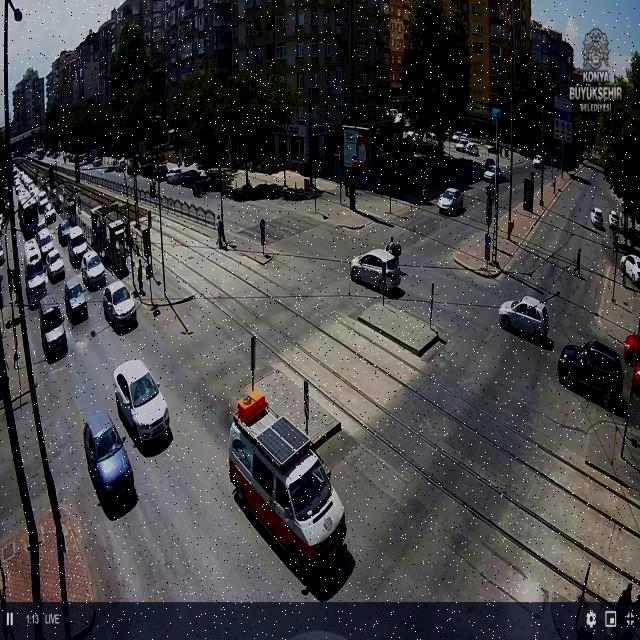Car: (80, 409, 136, 509), (114, 359, 170, 446), (558, 339, 625, 406), (499, 296, 551, 344), (349, 248, 402, 294), (102, 280, 138, 333), (39, 301, 68, 362), (63, 280, 88, 322), (80, 250, 106, 290), (66, 228, 90, 264), (26, 268, 47, 306), (46, 248, 66, 282), (438, 188, 464, 214), (619, 253, 640, 282), (24, 238, 41, 268), (36, 227, 54, 253), (36, 192, 52, 218), (484, 165, 506, 182), (58, 218, 72, 244), (166, 170, 187, 185), (590, 207, 604, 227), (43, 203, 56, 224), (608, 210, 621, 228), (402, 130, 417, 143), (532, 155, 544, 169), (459, 134, 470, 144), (451, 133, 461, 142), (444, 131, 452, 140)
Truck: (226, 392, 344, 572)
